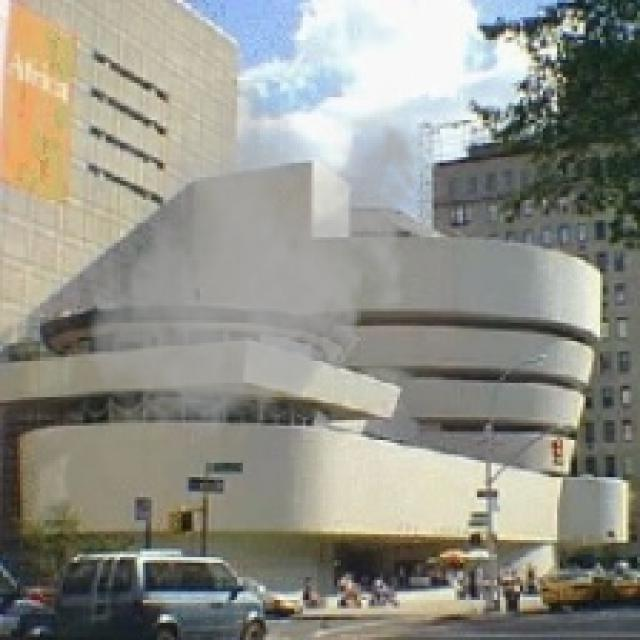Smoke: (80, 80, 429, 452)
